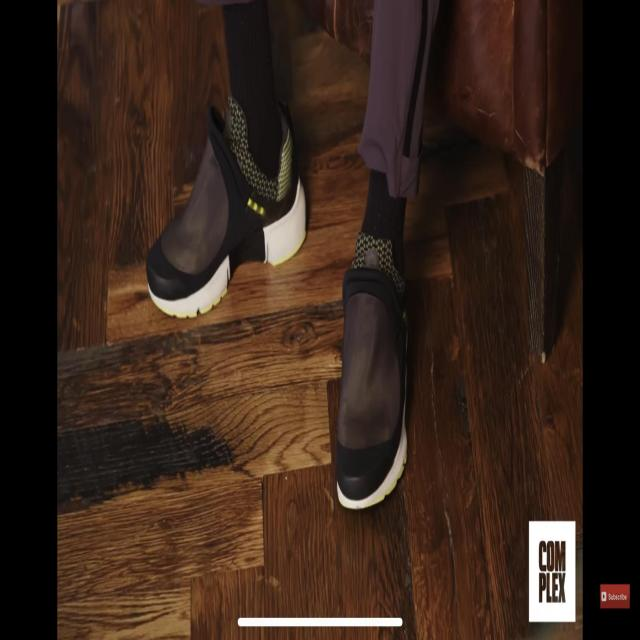shoe: (146, 80, 306, 347), (319, 189, 436, 544)
